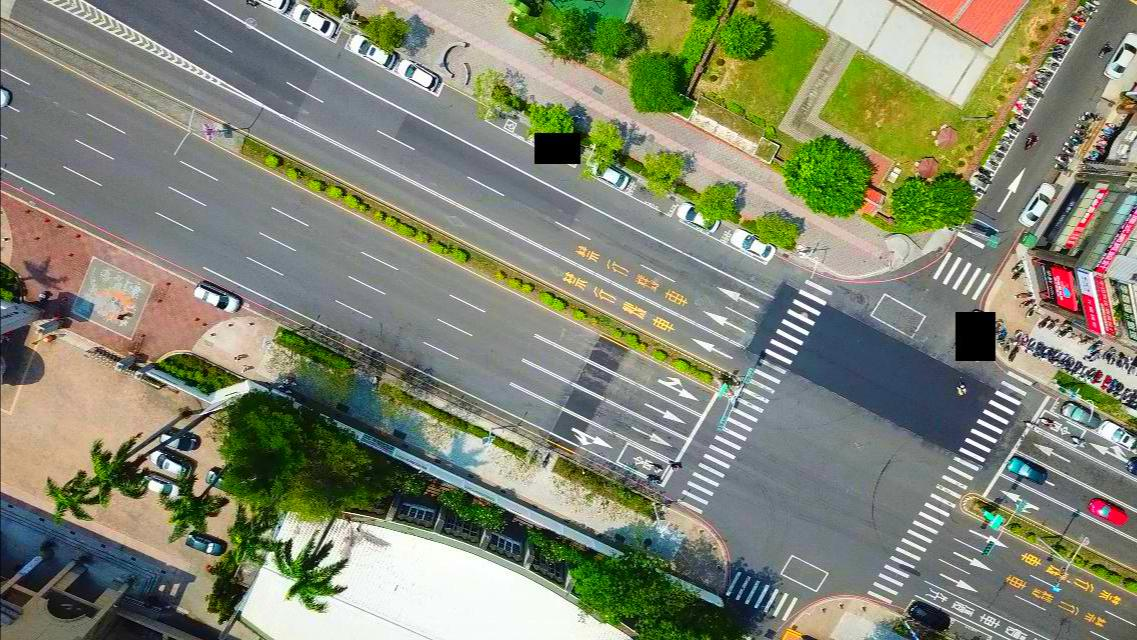vehicle: (194, 280, 243, 317), (1019, 181, 1057, 227), (290, 5, 338, 39), (1102, 34, 1136, 81), (676, 200, 721, 235), (1060, 397, 1100, 432), (908, 601, 950, 634), (731, 228, 774, 259), (396, 60, 438, 89), (1009, 457, 1048, 486), (150, 449, 190, 477), (591, 162, 630, 190), (1097, 422, 1136, 450), (350, 39, 390, 65), (1088, 498, 1125, 525), (187, 533, 226, 558), (145, 474, 183, 499), (208, 466, 240, 495), (160, 428, 200, 449)
